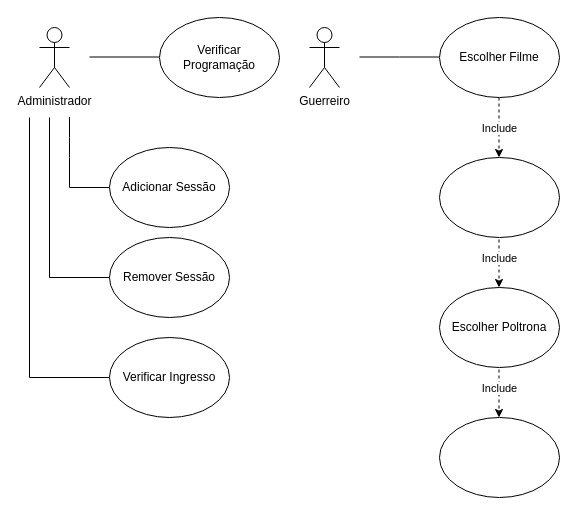
The diagram is 577 pixels wide and 515 high, and some of its shapes have lost their labels. The shapes that lost their labels are listed below. From the top down, each one's centre as x and y in pixels, then its label:
the point at 499,197: Escolher Sessão
the point at 499,457: Efetuar Compra
